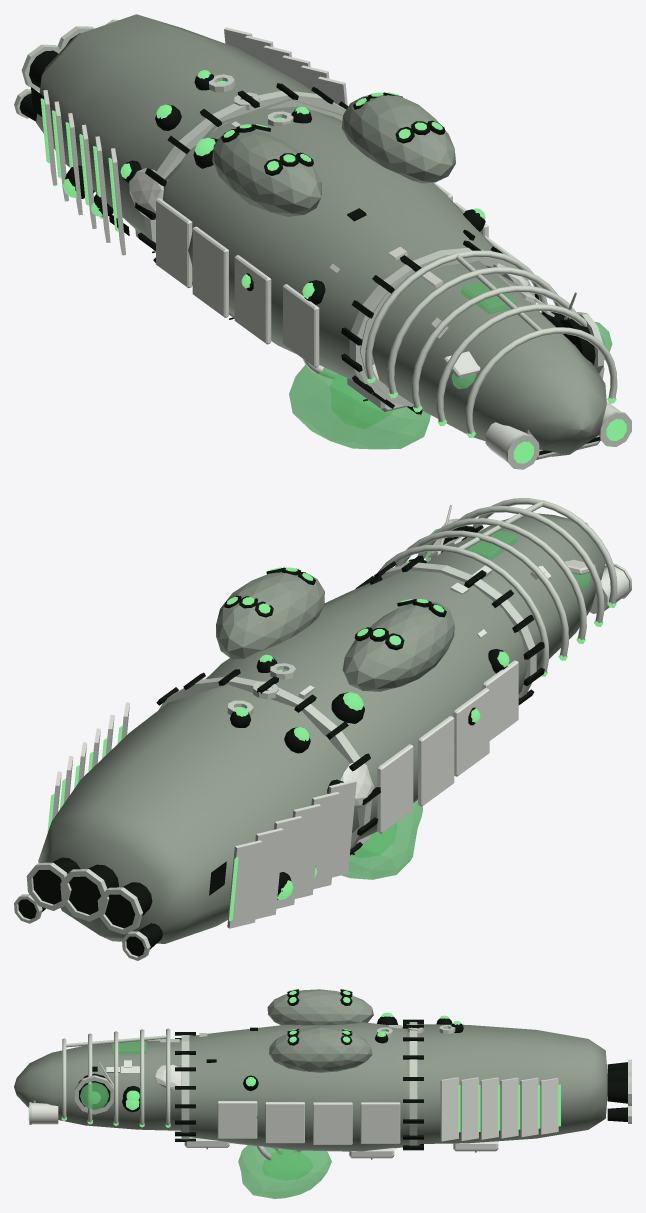
Rendered from zrost-szczepieni-trade-16-lod0.glb.
3 renders of one model, top to bottom at view 1: azimuth 30°, elevation 25°; view 2: azimuth 150°, elevation 25°; view 3: azimuth 270°, elevation 25°, orthographic. The views are drawn at different scales.
Bounding box in the file's own units: 18.9 × 22.01 × 68.35.
